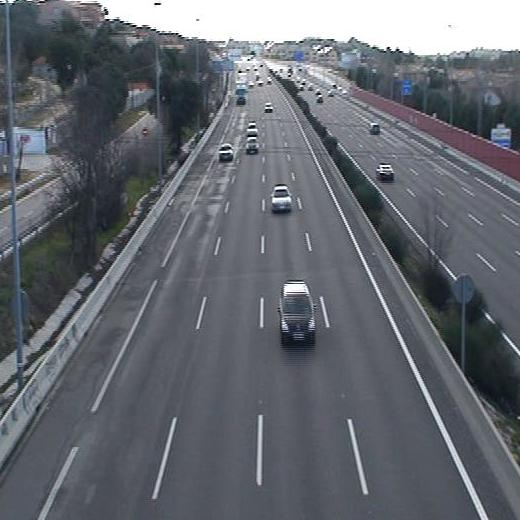car: (277, 279, 318, 346), (269, 183, 293, 212), (217, 142, 233, 161), (244, 137, 260, 153), (246, 121, 257, 135)
